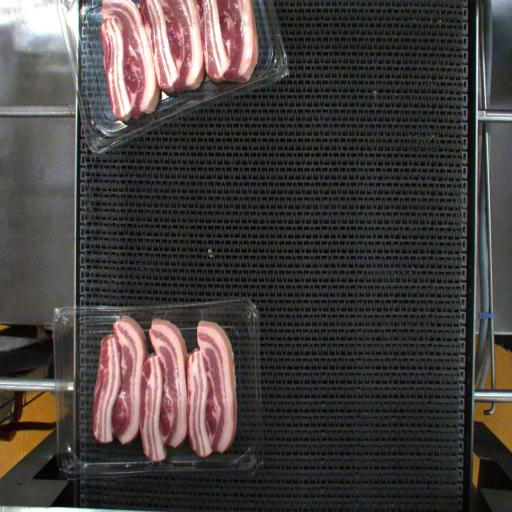packaging-error: (108, 303, 139, 337), (194, 300, 209, 328)
